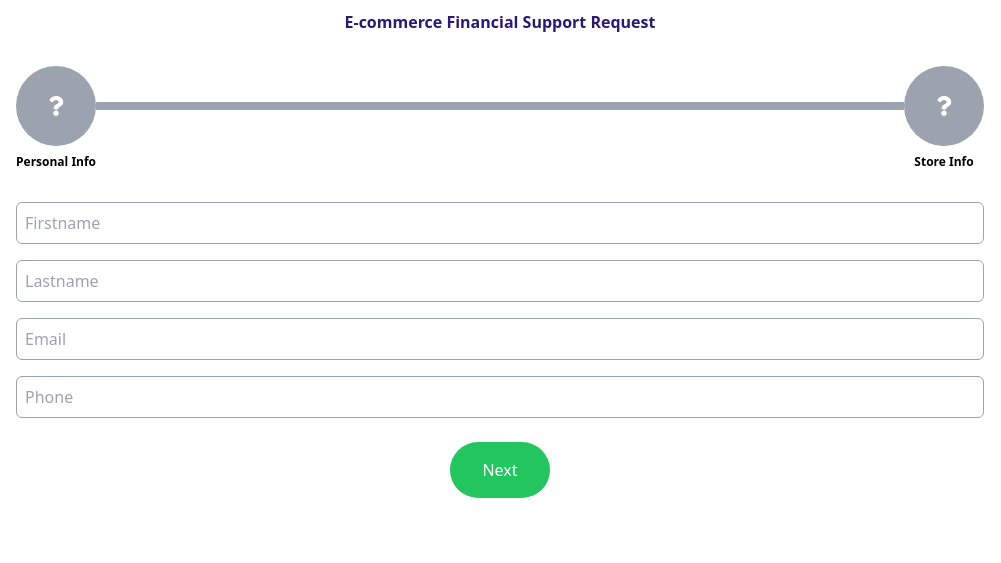
Test case: Home Page › should show error message when submitting incomplete form
The image size is (1001, 563).
Click the button "Next" at {"x": 500, "y": 470}, box [450,442,549,498]
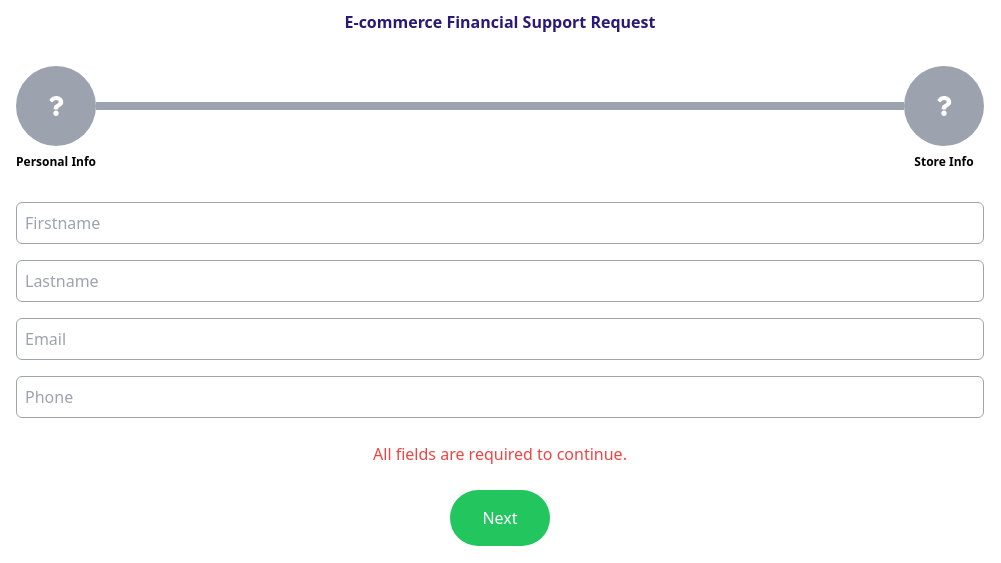
Now the text "All fields are required to continue." is shown, box [373,443,627,465]
